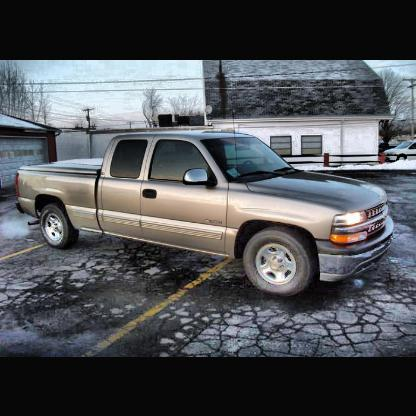Chevrolet Silverado 1500 Extended Cab 2012: (17, 129, 397, 300)
